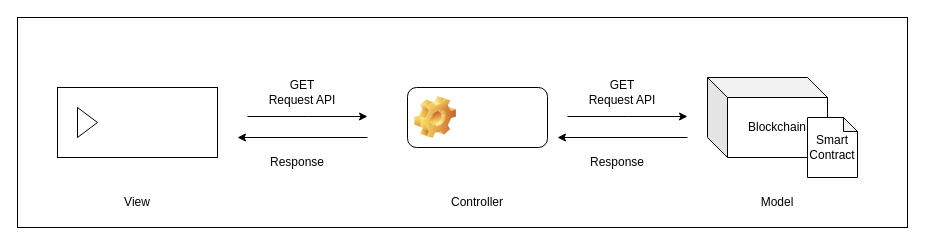
The diagram is 925 pixels wide and 245 high, and some of its shapes have lost their labels. Each missing label, with the box of its shape:
Backend Server: (406, 86, 548, 148)
Frontend Client: (56, 86, 218, 158)
